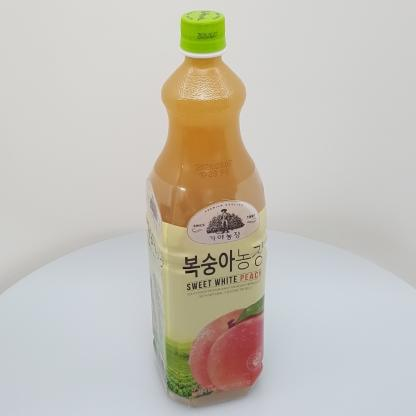-------1-5L: (145, 10, 268, 408)
